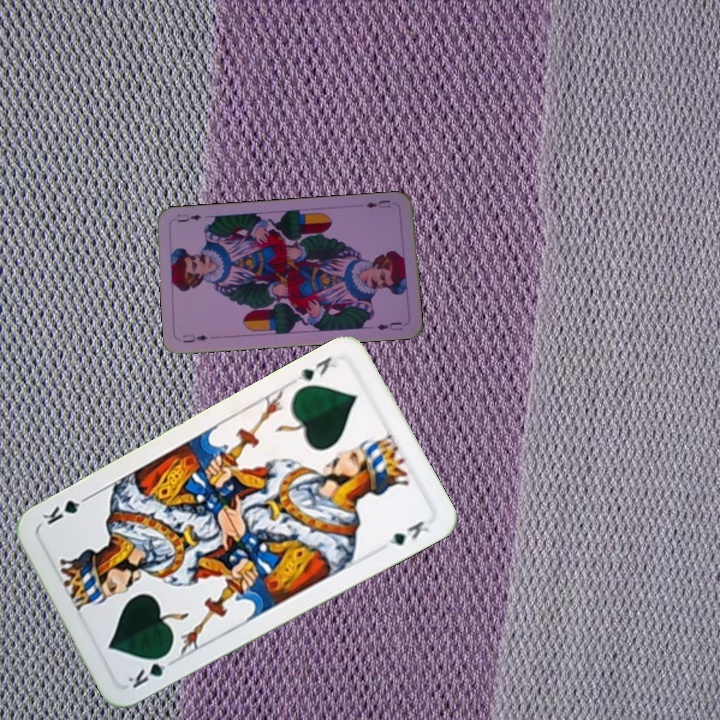EU: (179, 330, 210, 346), (361, 196, 393, 211)
GK: (122, 648, 178, 691), (294, 352, 342, 385)
